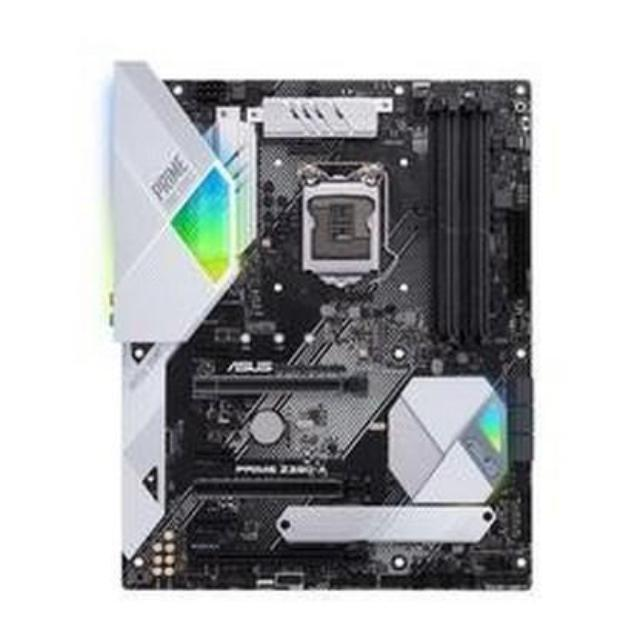Mainboard: (102, 60, 540, 598)
